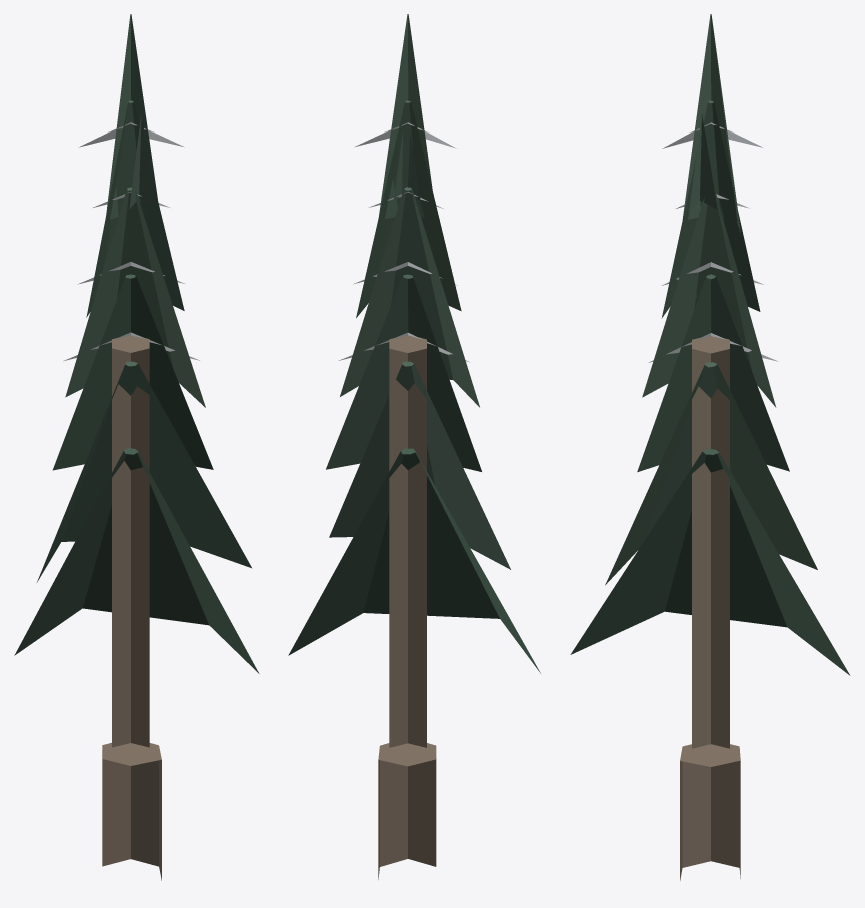
The model's file is shu.lengshan@subadult__winter.glb.
3 views of the same model, side by side, from view 1: azimuth 30°, elevation 25°; view 2: azimuth 150°, elevation 25°; view 3: azimuth 270°, elevation 25° (orthographic).
Parts seen in each view (by area): view 1: shu.lengshan@subadult__winter; view 2: shu.lengshan@subadult__winter; view 3: shu.lengshan@subadult__winter.
Boxes of the visible parts, box(x1,y1,x2,y2) form: shu.lengshan@subadult__winter: box(14, 14, 259, 880); shu.lengshan@subadult__winter: box(288, 14, 540, 879); shu.lengshan@subadult__winter: box(570, 14, 850, 880).
Bounding box in the file's own units: 3.1 × 12.07 × 3.57.
